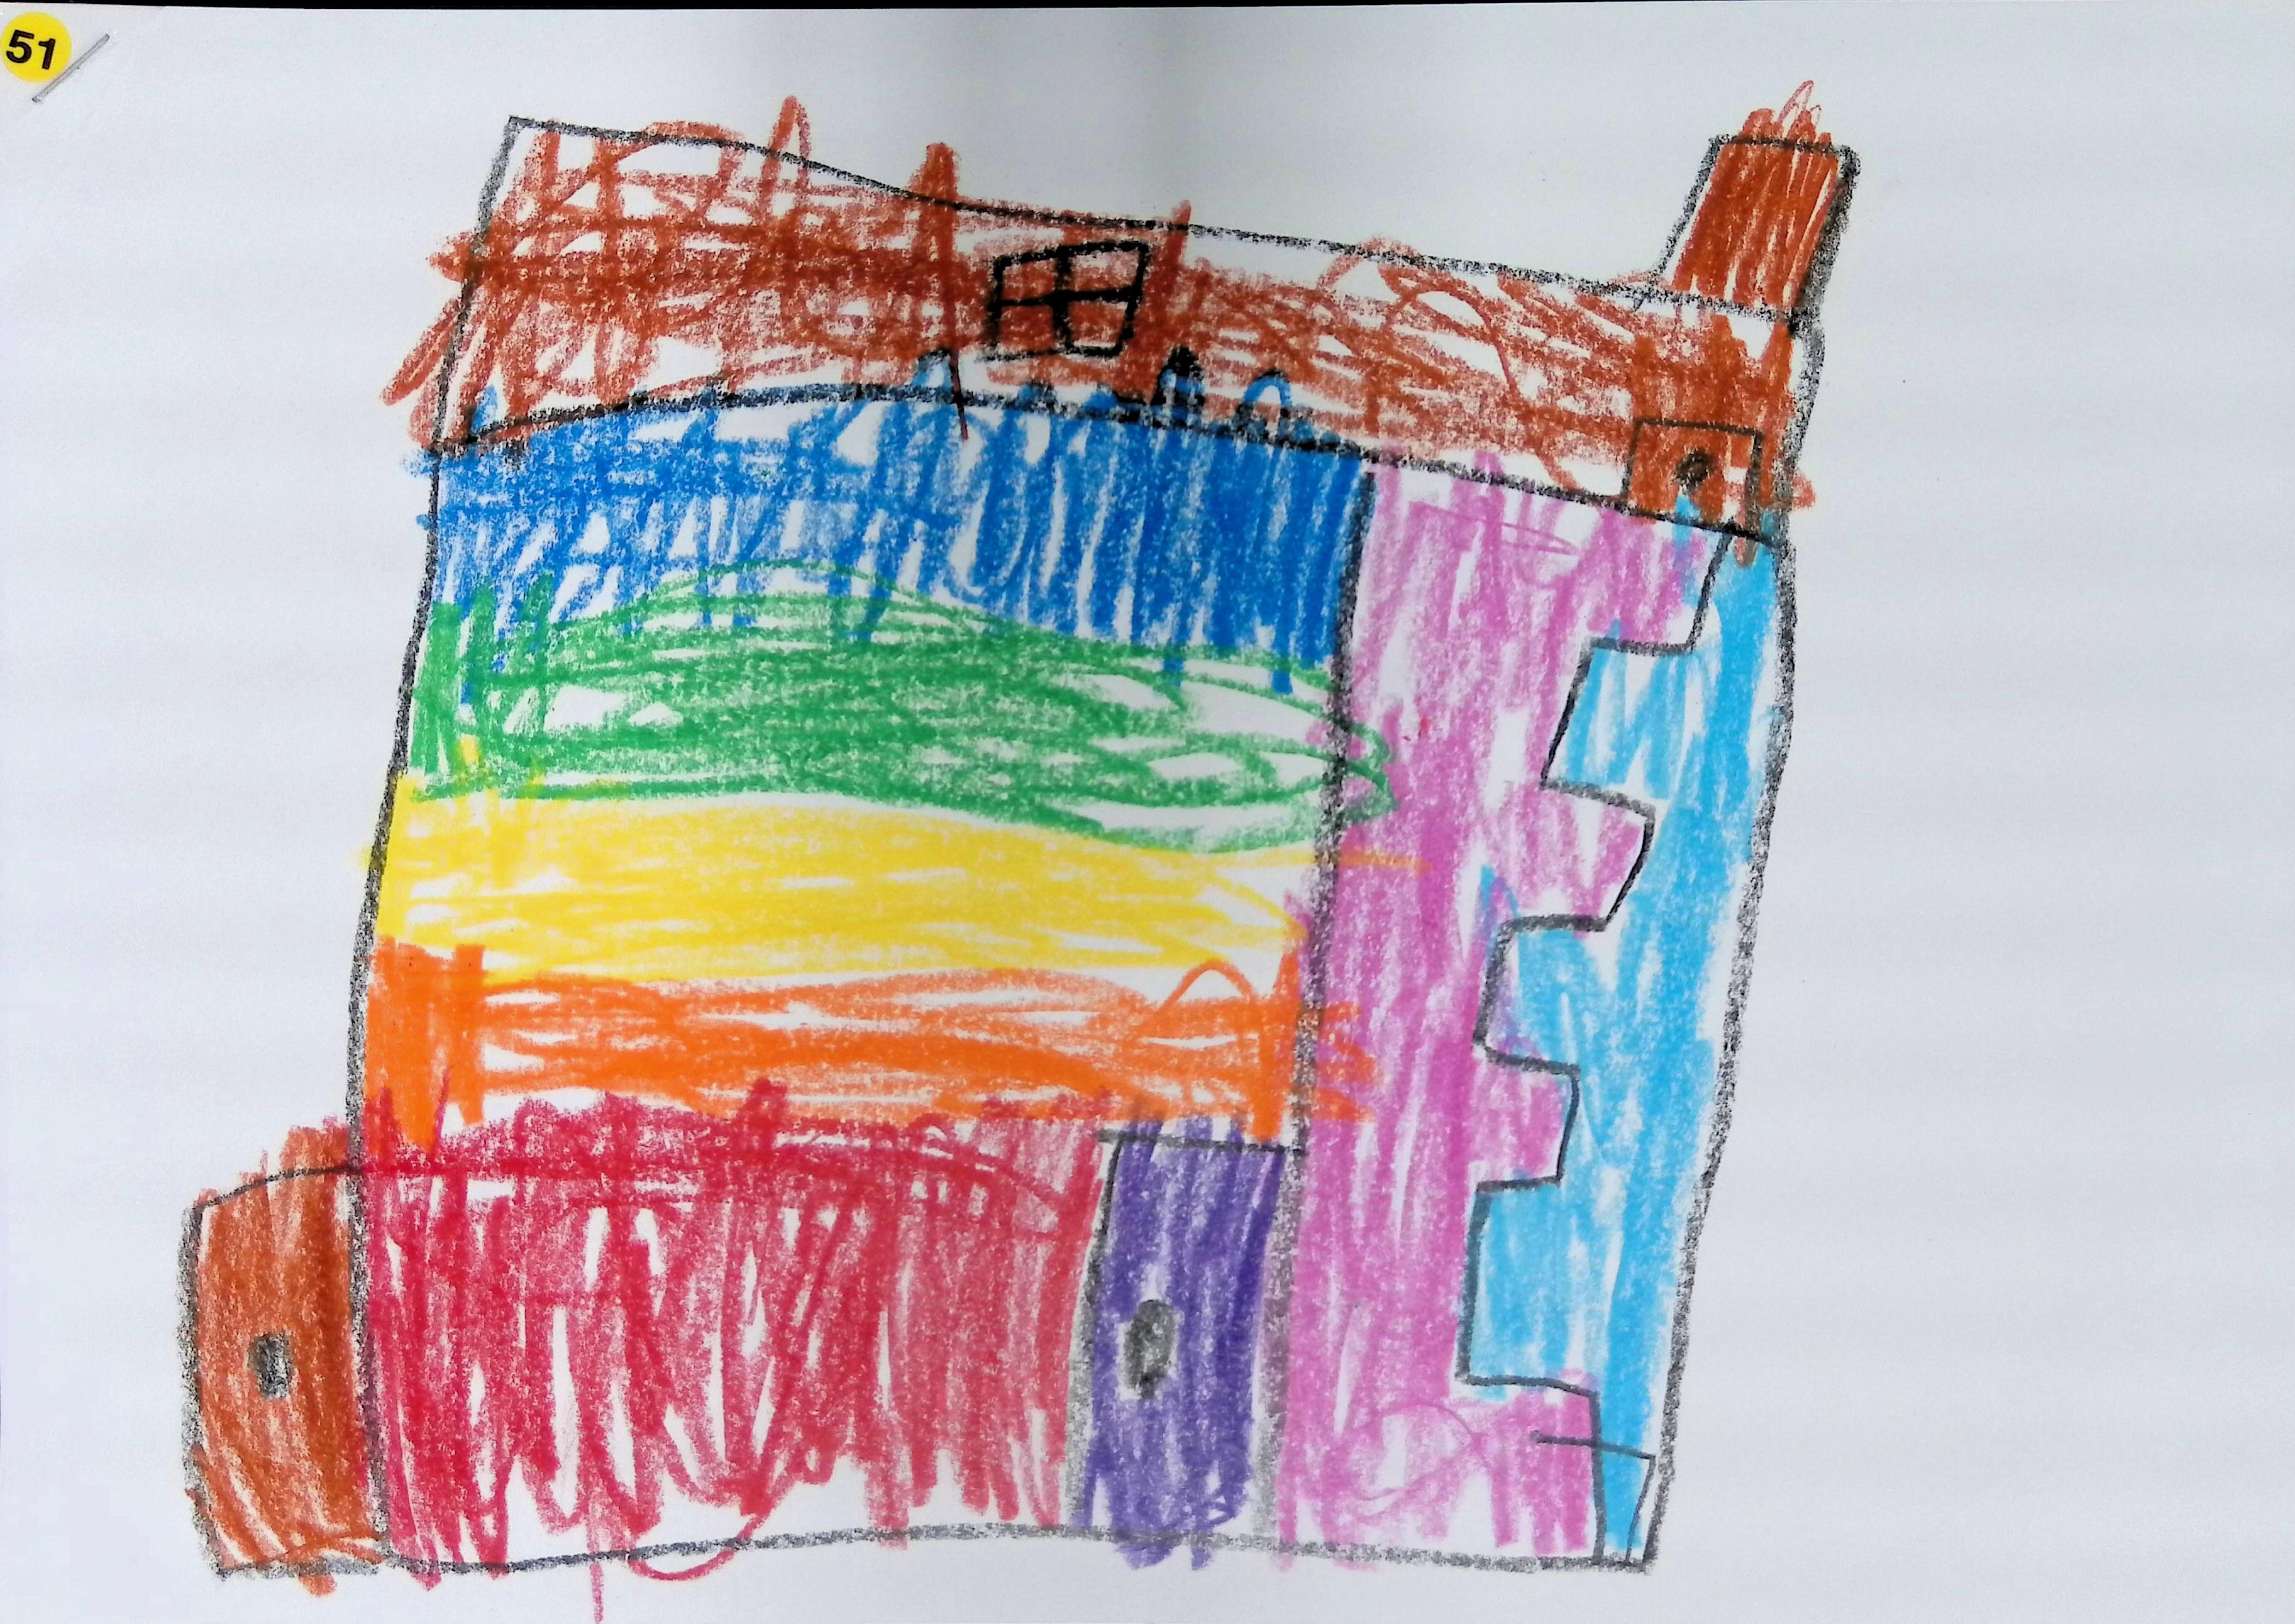chimney: (1647, 135, 1859, 325)
door: (1070, 1125, 1302, 1552), (192, 1169, 399, 1589), (1617, 411, 1766, 541)
house: (176, 114, 1852, 1575)
wall: (360, 385, 1796, 1578)
window: (988, 237, 1165, 359)
